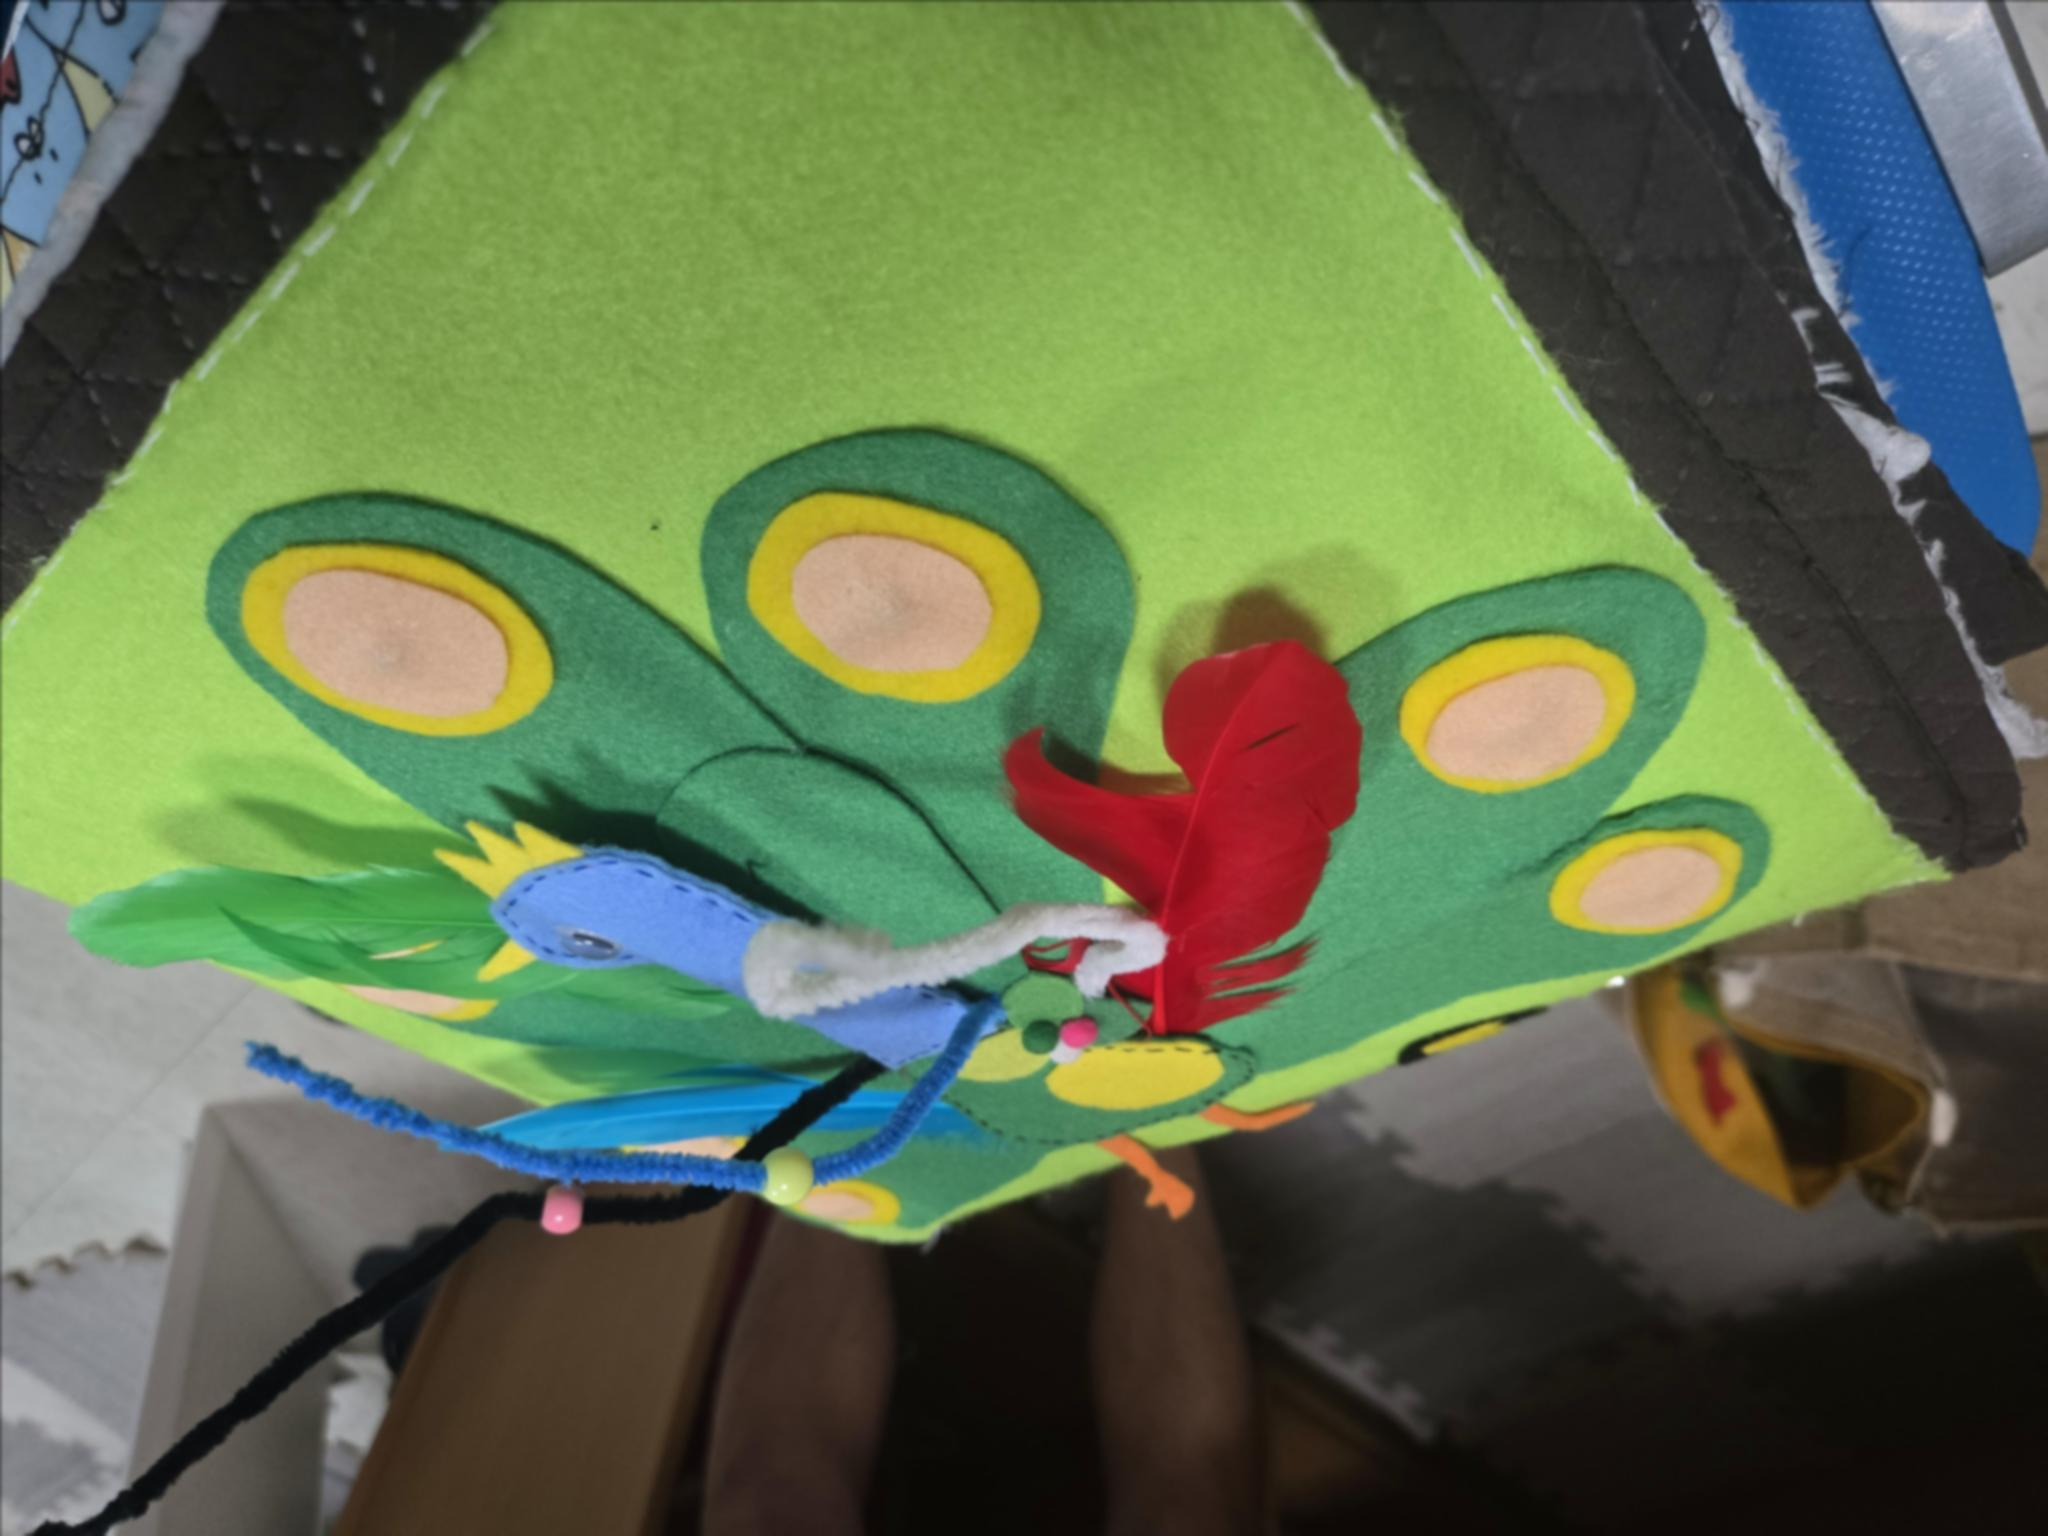bead: (746, 1132, 824, 1218), (535, 1177, 591, 1249)
